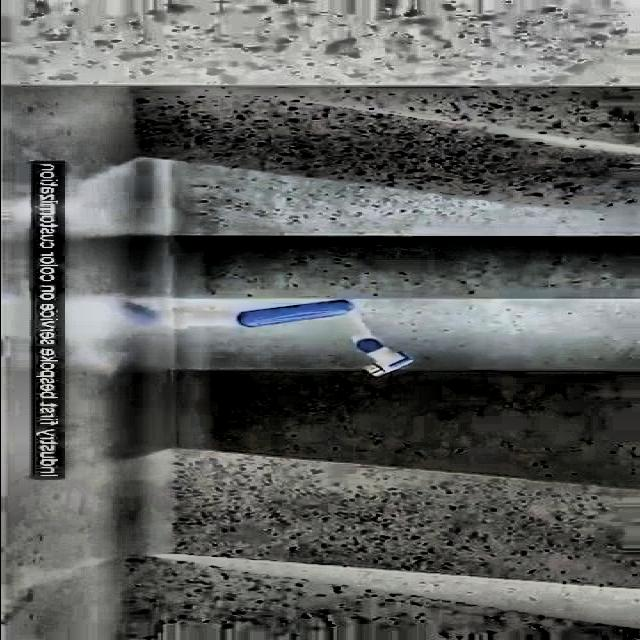robot: (236, 299, 416, 379)
